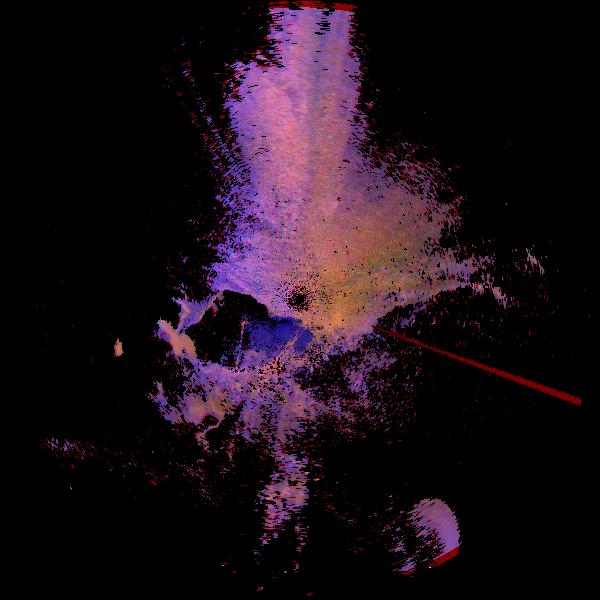roost: (370, 470, 493, 593), (128, 308, 200, 380)
